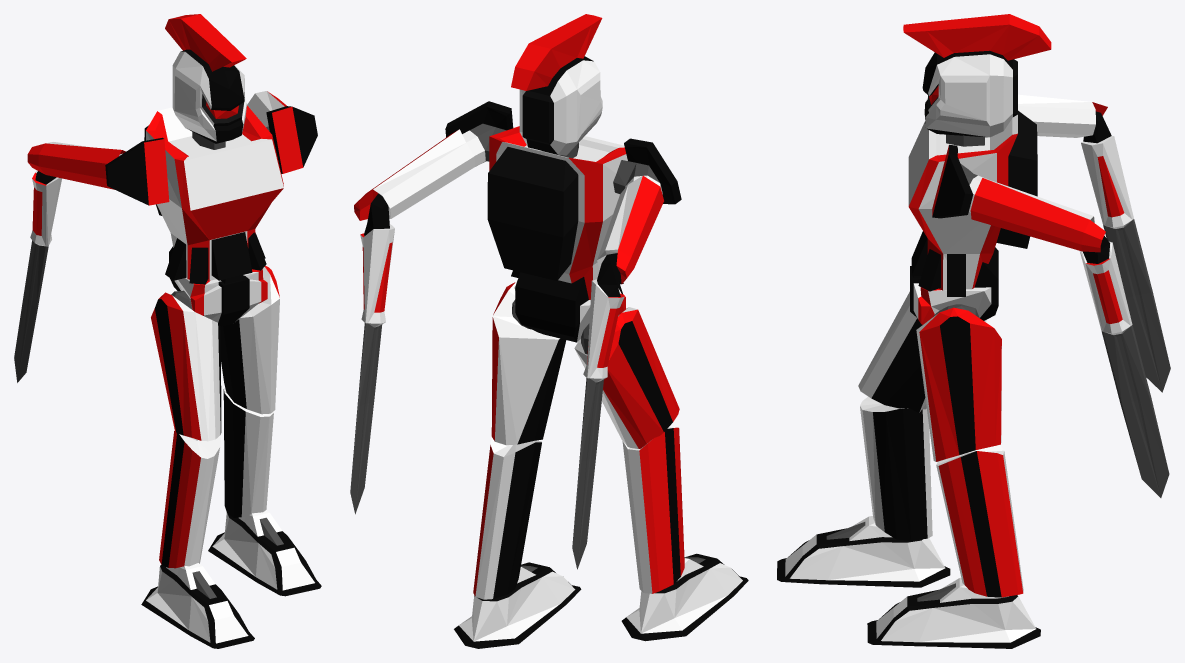
File: robots_000004.obj
3 views of the same model, side by side, from view 1: azimuth 30°, elevation 25°; view 2: azimuth 150°, elevation 25°; view 3: azimuth 270°, elevation 25° (orthographic). The views are drawn at different scales.
Parts seen in each view (by area): view 1: Chest_plate_Cube.004, Head_gladiator_Cube.024, R_Thigh_Cube.005, R_Forearm.001_Cube.028, R_Shin_Cube.007, R_Thigh.002_Cube.027, R_Foot_Cube, R_Foot.002_Cube.035, R_Shin.002_Cube.029, Pelvis_Cube.006, R_Arm.002_Cube.032, R_Arm.003_Cube.034 (+1 smaller); view 2: Chest_plate_Cube.004, R_Forearm.002_Cube.033, R_Forearm.001_Cube.028, Head_gladiator_Cube.024, R_Thigh.002_Cube.027, R_Shin_Cube.007, R_Shin.002_Cube.029, R_Thigh_Cube.005, R_Foot_Cube, R_Foot.002_Cube.035, Pelvis_Cube.006, R_Arm.002_Cube.032 (+1 smaller); view 3: R_Forearm.002_Cube.033, Chest_plate_Cube.004, Head_gladiator_Cube.024, R_Thigh.002_Cube.027, R_Forearm.001_Cube.028, R_Shin.002_Cube.029, R_Shin_Cube.007, R_Foot.002_Cube.035, R_Foot_Cube, R_Thigh_Cube.005, Pelvis_Cube.006, R_Arm.003_Cube.034.
Part boxes in pixels (<box>): Chest_plate_Cube.004: <box>144,105,283,284</box>; Head_gladiator_Cube.024: <box>165,14,246,143</box>; R_Thigh_Cube.005: <box>151,292,221,441</box>; R_Forearm.001_Cube.028: <box>14,142,125,382</box>; R_Shin_Cube.007: <box>159,431,220,568</box>; R_Thigh.002_Cube.027: <box>220,266,279,414</box>; R_Foot_Cube: <box>141,563,254,648</box>; R_Foot.002_Cube.035: <box>208,510,321,596</box>; R_Shin.002_Cube.029: <box>223,388,273,517</box>; Pelvis_Cube.006: <box>169,246,267,326</box>; R_Arm.002_Cube.032: <box>105,137,169,205</box>; R_Arm.003_Cube.034: <box>266,106,317,173</box>; Chest_plate_Cube.004: <box>487,126,627,299</box>; R_Forearm.002_Cube.033: <box>350,129,475,514</box>; R_Forearm.001_Cube.028: <box>572,176,663,569</box>; Head_gladiator_Cube.024: <box>511,14,602,155</box>; R_Thigh.002_Cube.027: <box>491,281,566,445</box>; R_Shin_Cube.007: <box>622,427,684,593</box>; R_Shin.002_Cube.029: <box>473,437,541,599</box>; R_Thigh_Cube.005: <box>574,307,679,448</box>; R_Foot_Cube: <box>621,553,748,641</box>; R_Foot.002_Cube.035: <box>454,562,581,648</box>; Pelvis_Cube.006: <box>514,272,625,342</box>; R_Arm.002_Cube.032: <box>613,138,681,204</box>; R_Forearm.002_Cube.033: <box>970,178,1169,497</box>; Chest_plate_Cube.004: <box>908,110,1037,296</box>; Head_gladiator_Cube.024: <box>903,14,1051,137</box>; R_Thigh.002_Cube.027: <box>916,307,1001,461</box>; R_Forearm.001_Cube.028: <box>1018,94,1170,392</box>; R_Shin.002_Cube.029: <box>936,445,1023,597</box>; R_Shin_Cube.007: <box>860,396,932,540</box>; R_Foot.002_Cube.035: <box>867,577,1040,648</box>; R_Foot_Cube: <box>777,516,950,587</box>; R_Thigh_Cube.005: <box>858,291,986,412</box>; Pelvis_Cube.006: <box>910,247,998,324</box>; R_Arm.003_Cube.034: <box>932,144,986,218</box>.
Size of the model in its own units: 1.51 by 3.17 by 1.92.
